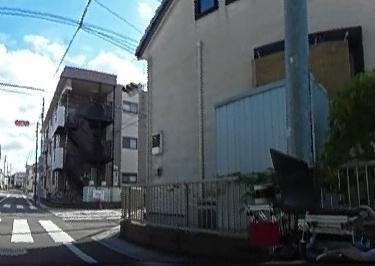person: (345, 67, 375, 266)
